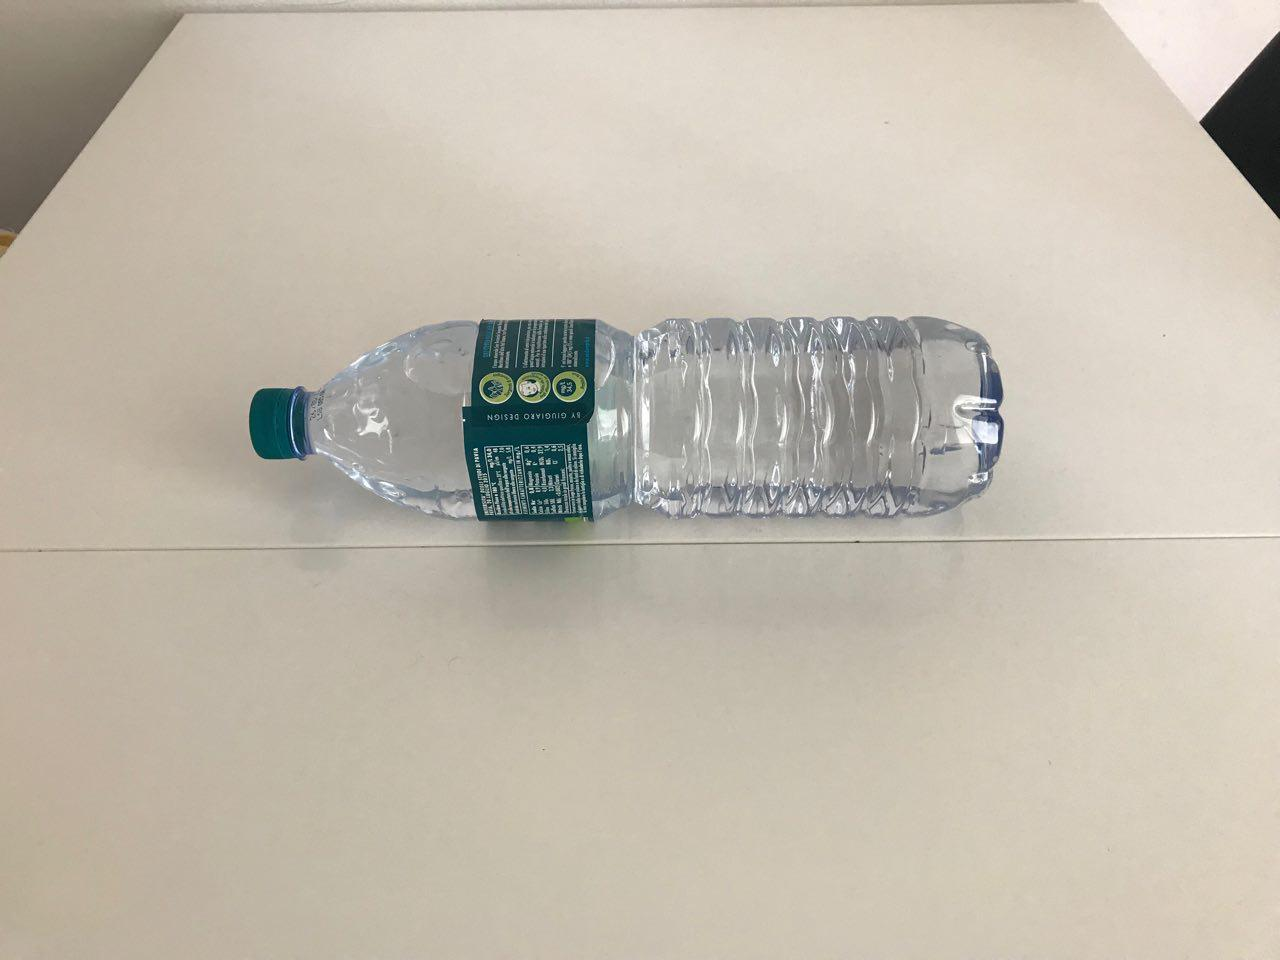san_bernardo: (247, 314, 1005, 522)
